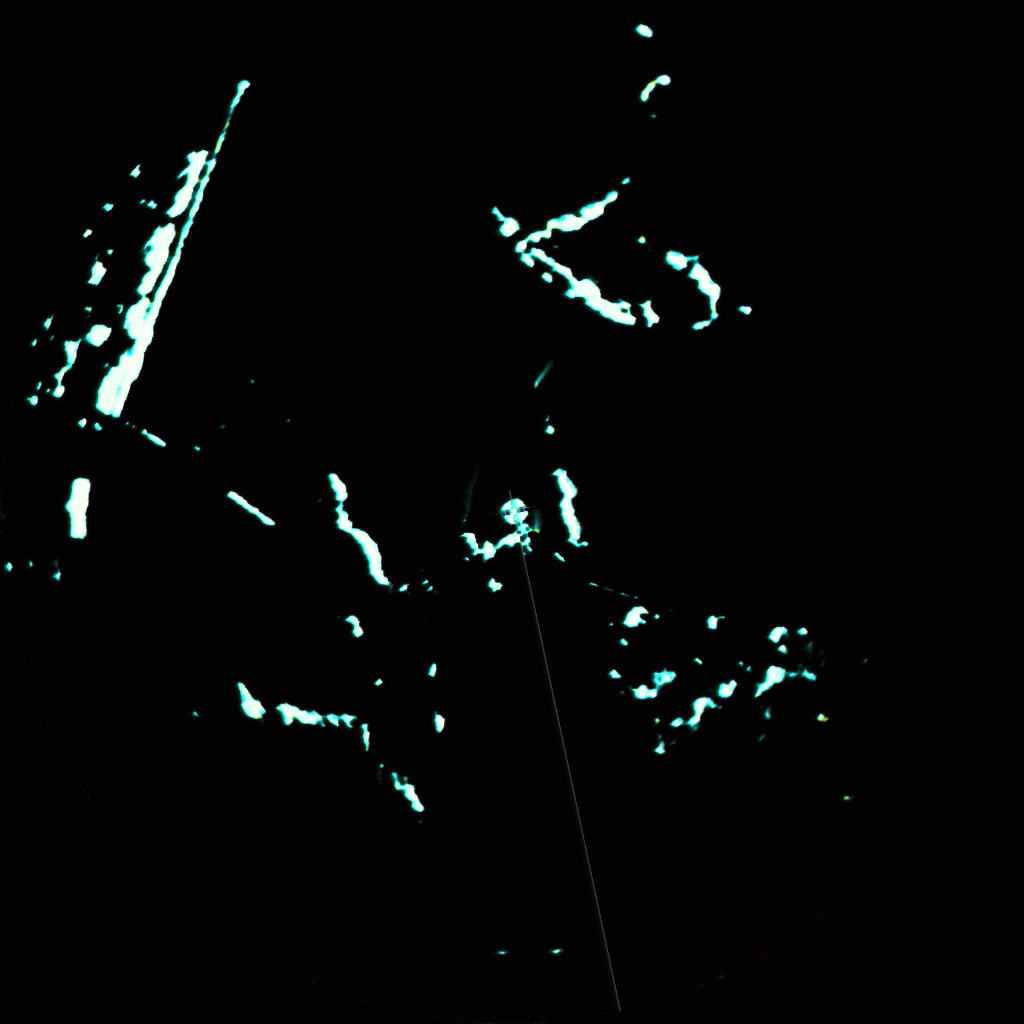B: (533, 364, 550, 386), (462, 493, 470, 521), (534, 508, 539, 531)
